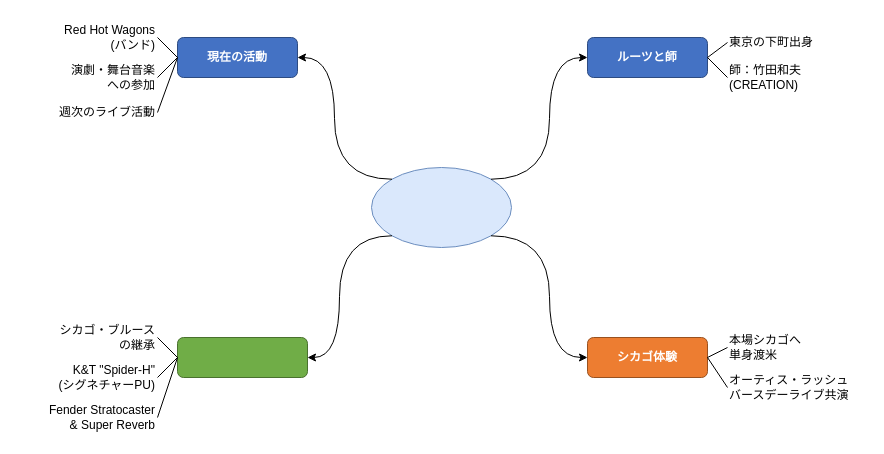
The diagram is 884 pixels wide and 454 high, and some of its shapes have lost their labels. The shapes that lost their labels are listed below. From the top down, each one's centre as x and y in pixels, then its label:
At (x=441, y=207): "スパイダーテツ (Spider Tetsu)".
At (x=242, y=357): "音楽スタイル・機材".
